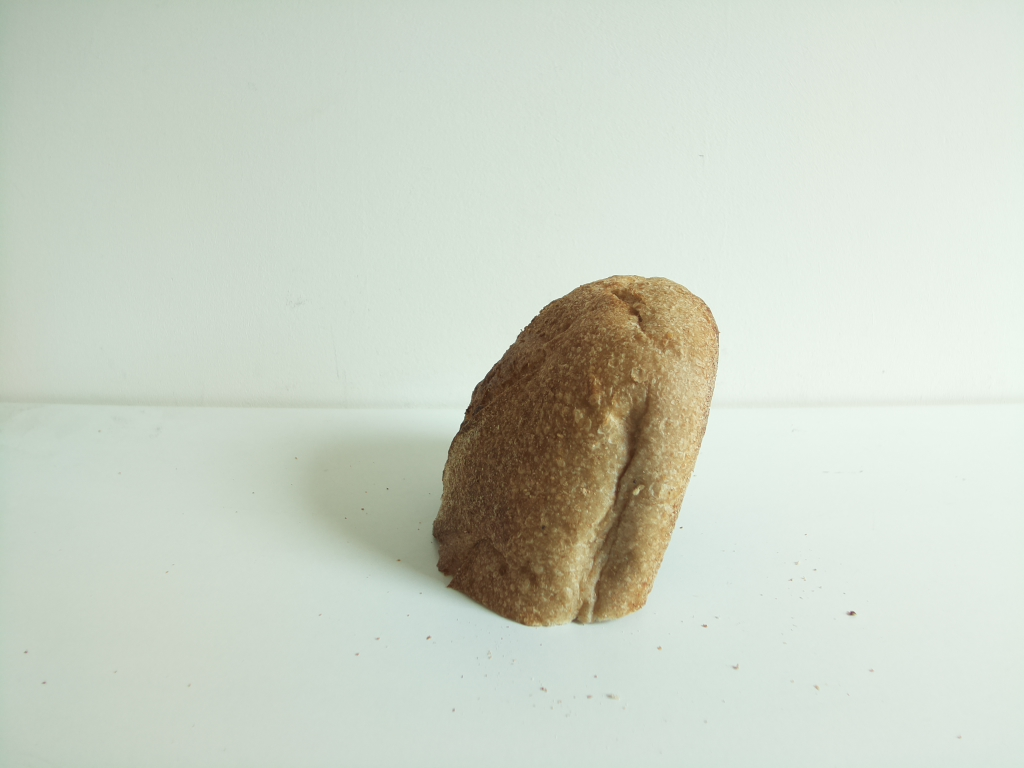bread: (431, 273, 722, 628)
